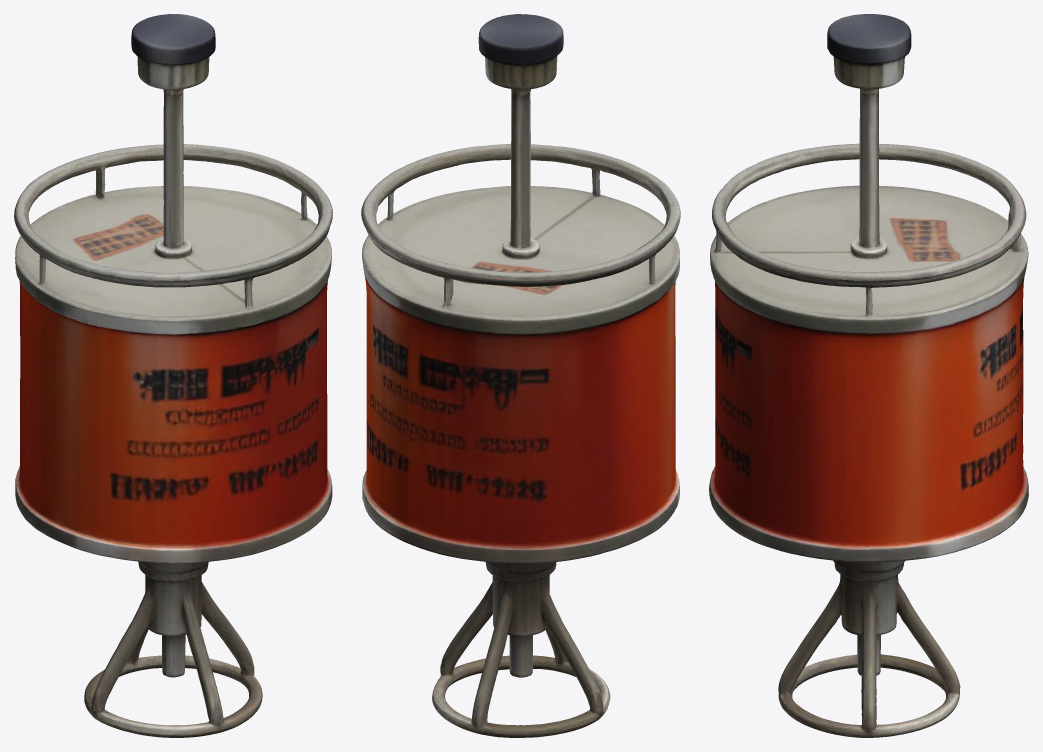
The picture shows the model from 3 angles, left to right: view 1: azimuth 30°, elevation 25°; view 2: azimuth 150°, elevation 25°; view 3: azimuth 270°, elevation 25°; orthographic projection.
Parts seen in each view (by area): view 1: mesh; view 2: mesh; view 3: mesh.
Boxes of the visible parts, x1,y1,x2,y2 form: mesh: (14, 14, 332, 737); mesh: (361, 14, 680, 737); mesh: (709, 14, 1028, 737).
Size of the model in its own units: 0.429 by 1 by 0.4314.
1 material, 1 textured.
